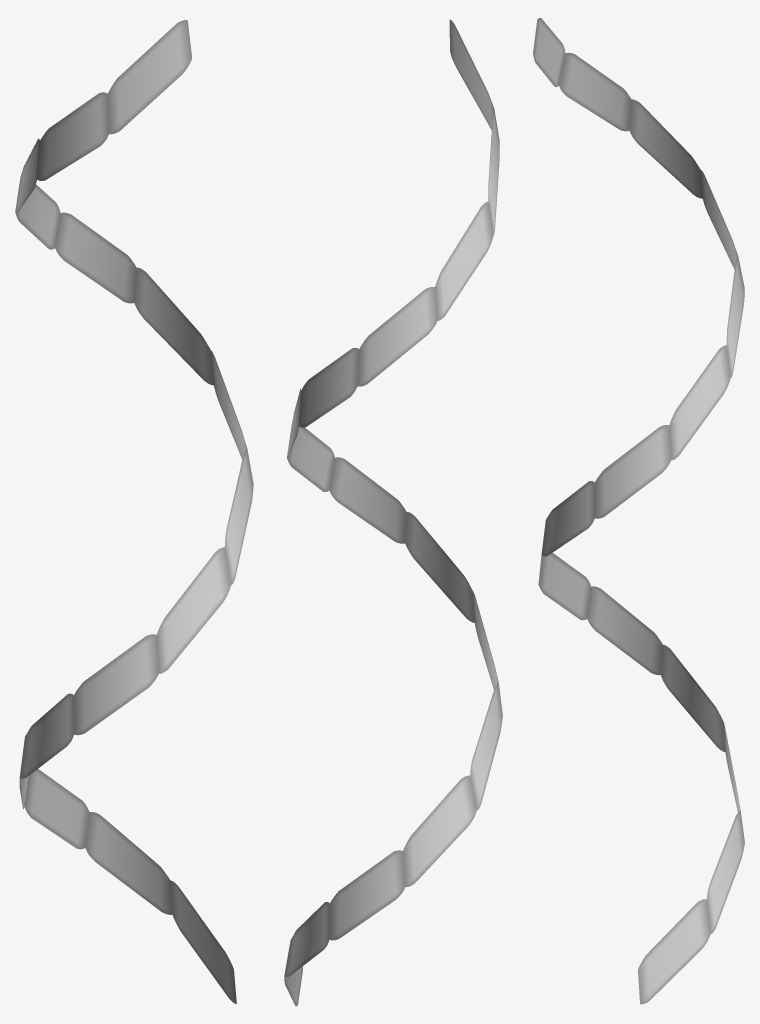
The picture shows the model from 3 angles, left to right: view 1: azimuth 30°, elevation 25°; view 2: azimuth 150°, elevation 25°; view 3: azimuth 270°, elevation 25°; orthographic projection. The views are drawn at different scales.
Visible parts, largest first — view 1: T1L2M007_25; view 2: T1L2M007_25; view 3: T1L2M007_25.
Boxes of the visible parts, x1=… form: T1L2M007_25: x1=15, y1=20, x2=253, y2=1003; T1L2M007_25: x1=284, y1=19, x2=502, y2=1006; T1L2M007_25: x1=533, y1=18, x2=744, y2=1004.
Size of the model in its own units: 0.0732 by 0.3594 by 0.0732.
1 material, 1 textured.
